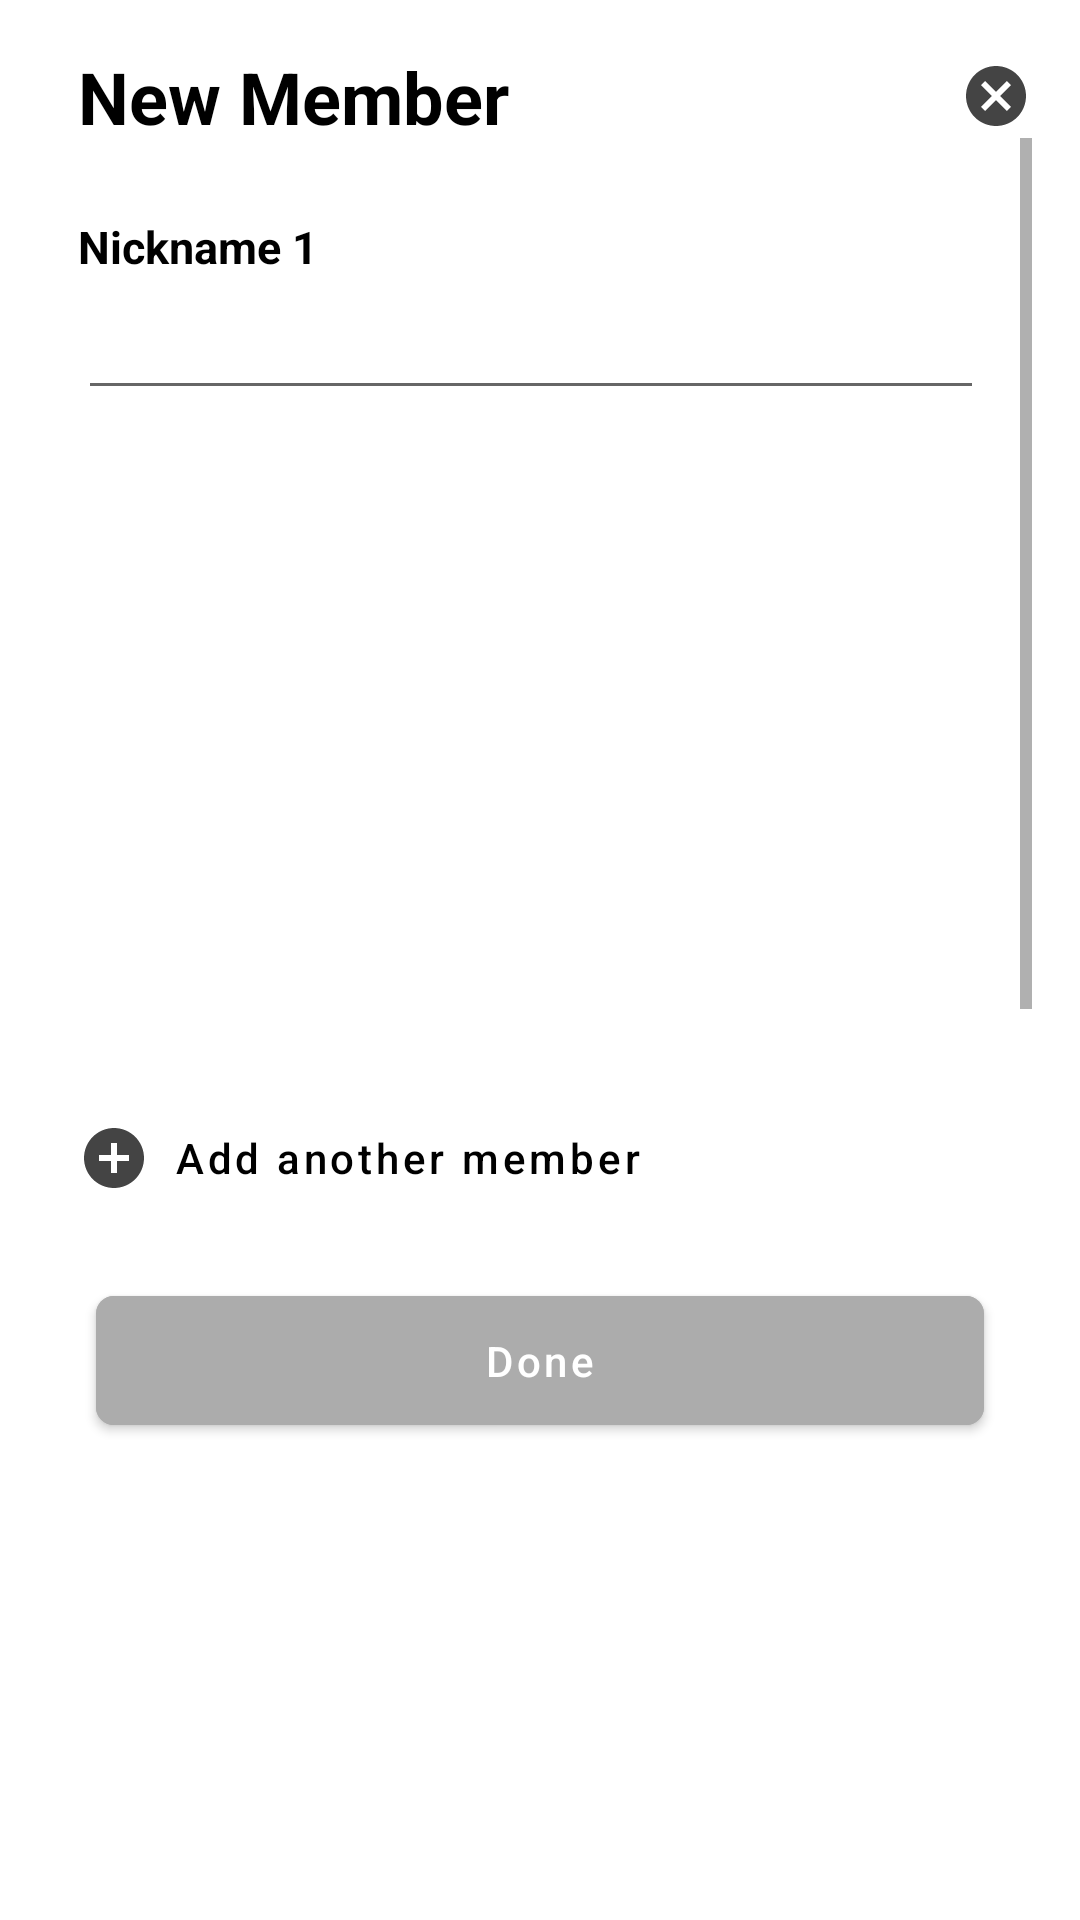

Icon bounding boxes for this 1080×1920 phone screenshot, format (x1, y1, x2, y2):
Cancel: (966, 66, 1026, 126)
